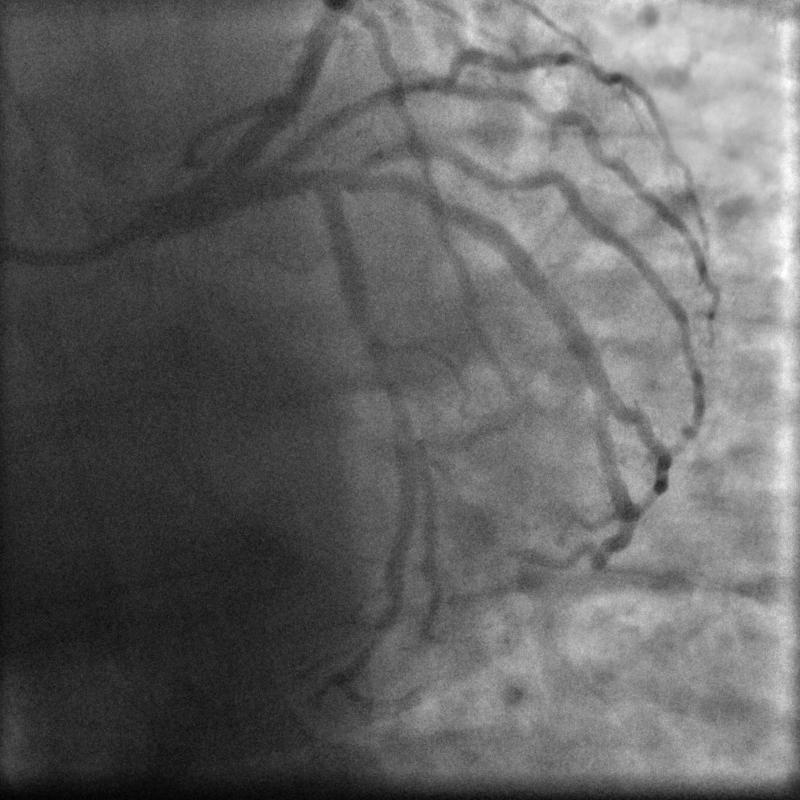Stenosis: (361, 325, 413, 422)
